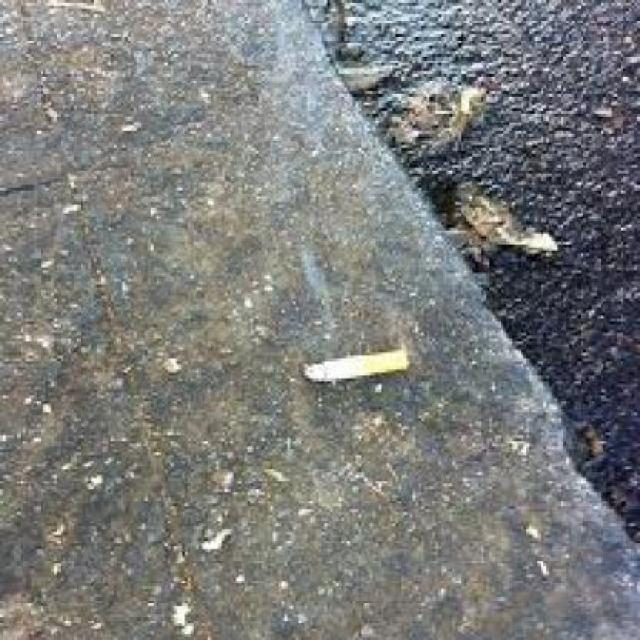cigarette: (298, 318, 438, 396)
